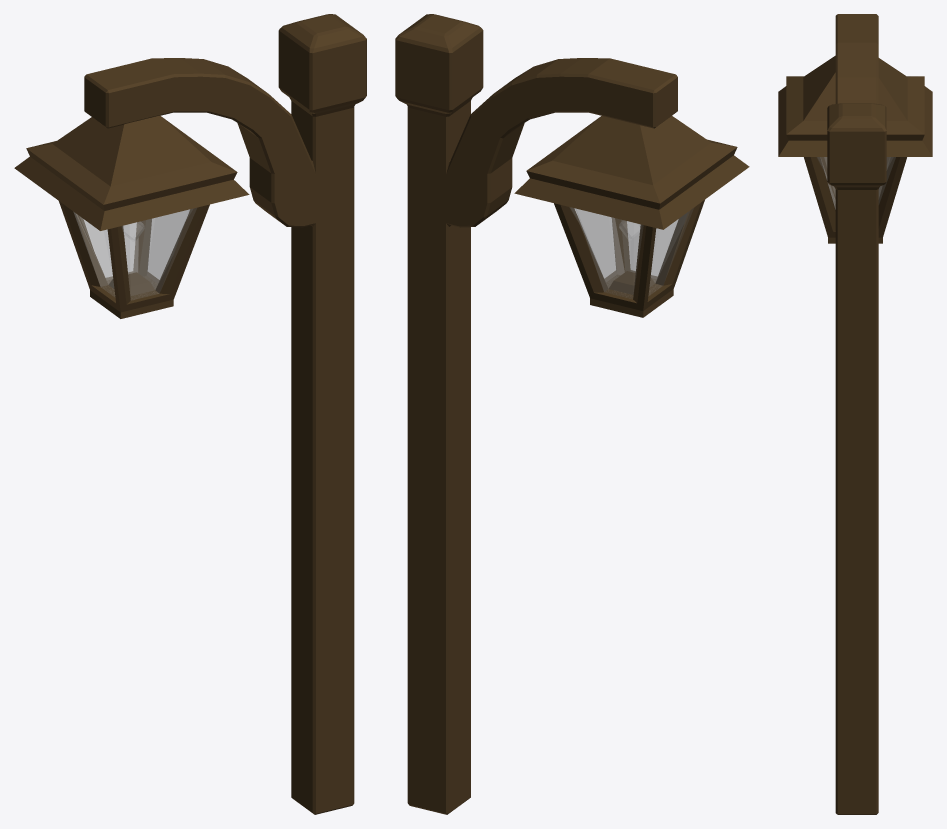
The model's file is streetLampWooden.fbx.
3 renders of one model, left to right at view 1: azimuth 30°, elevation 25°; view 2: azimuth 150°, elevation 25°; view 3: azimuth 270°, elevation 25°, orthographic. The views are drawn at different scales.
Visible parts, largest first — view 1: wood streetlamp; view 2: wood streetlamp; view 3: wood streetlamp.
Boxes of the visible parts, bbox=[...] form: wood streetlamp: bbox=[14, 14, 366, 814]; wood streetlamp: bbox=[395, 14, 749, 814]; wood streetlamp: bbox=[778, 14, 932, 814].
Bounding box in the file's own units: 1421 × 3581 × 719.
